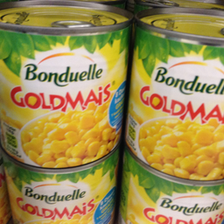corn: (1, 7, 129, 167), (127, 8, 224, 180), (1, 147, 120, 224), (119, 150, 222, 224)
